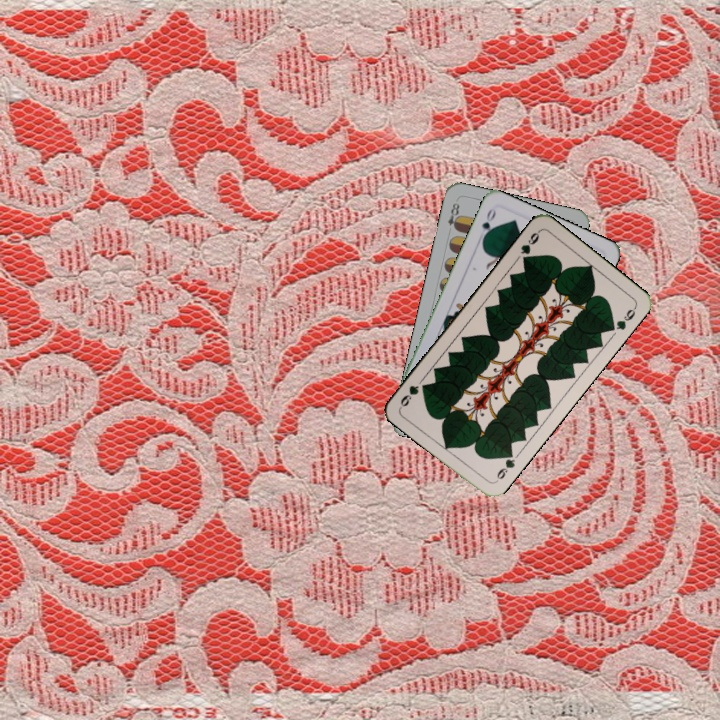E8: (444, 199, 463, 233)
G9: (491, 446, 517, 485), (517, 227, 542, 265)
GO: (474, 205, 499, 244)
